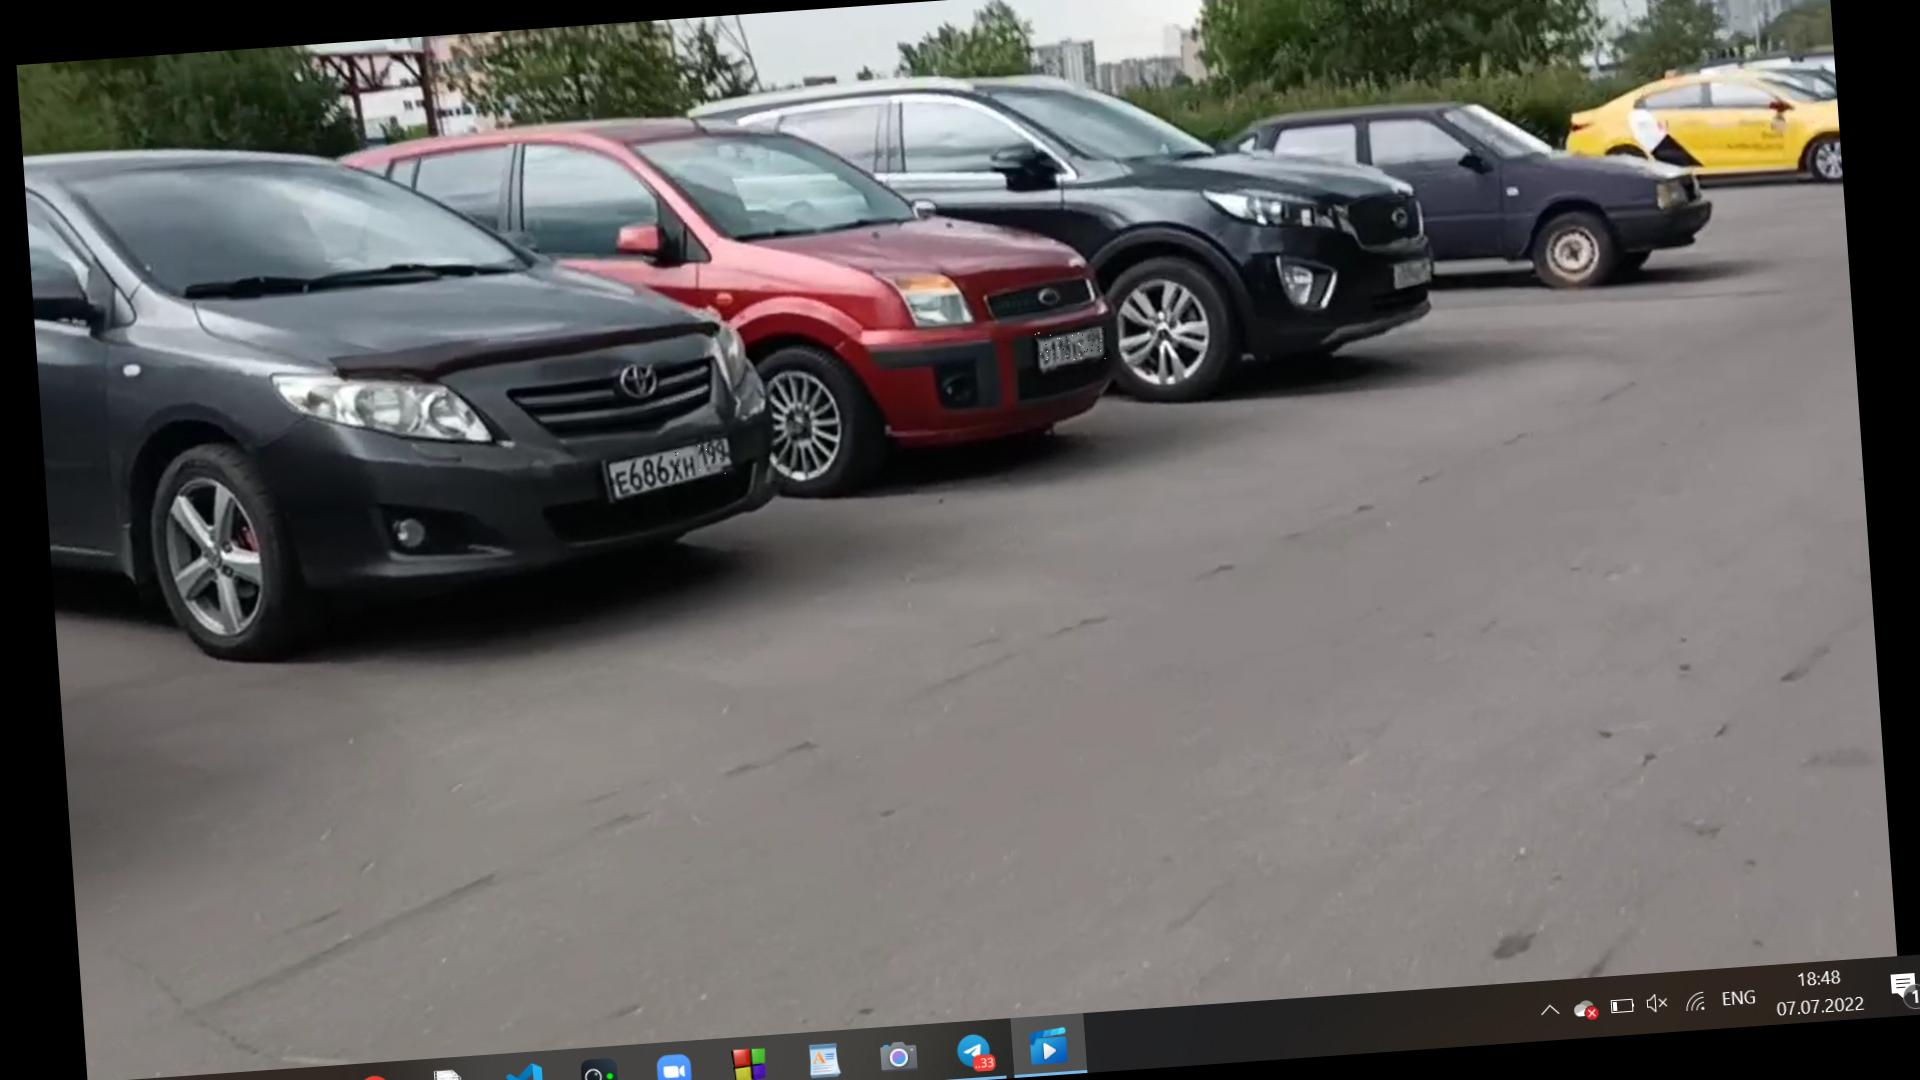plate: (609, 444, 730, 488), (1035, 328, 1107, 365)
